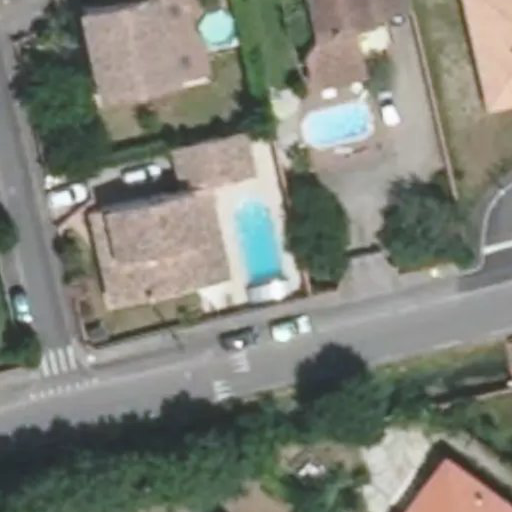pool: (222, 189, 290, 293), (298, 100, 378, 151), (196, 7, 241, 51)
